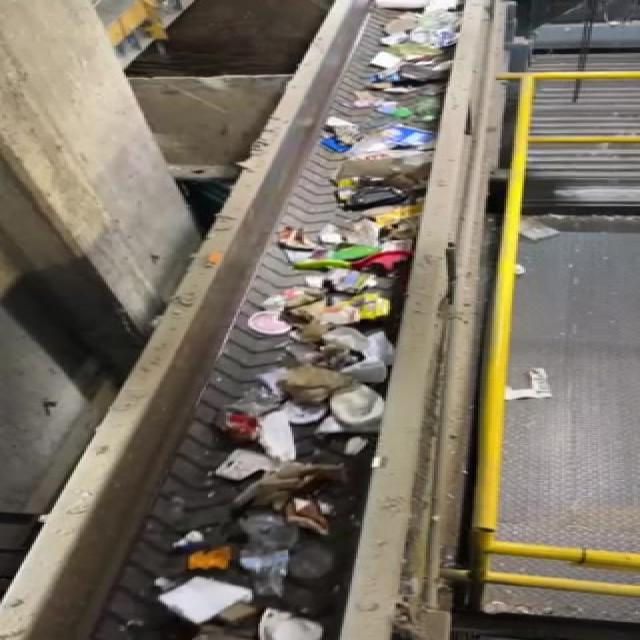paper: (147, 572, 261, 627)
